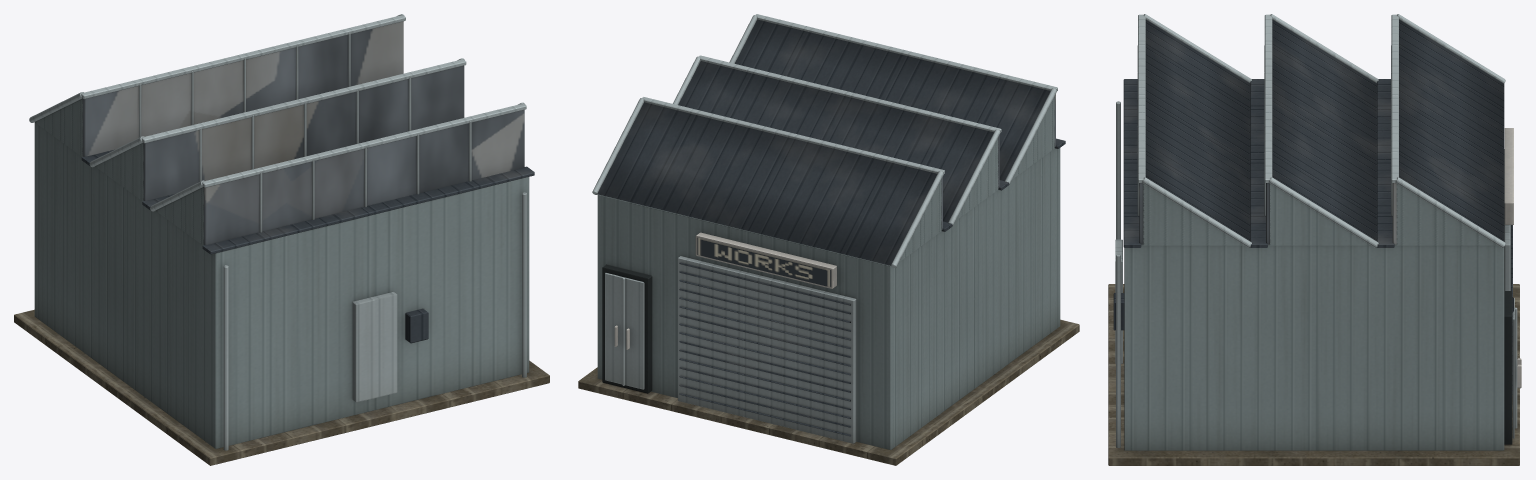
File: factory_003.obj
3 views of the same model, side by side, from view 1: azimuth 30°, elevation 25°; view 2: azimuth 150°, elevation 25°; view 3: azimuth 270°, elevation 25° (orthographic). The views are drawn at different scales.
Parts seen in each view (by area): view 1: factory_003; view 2: factory_003; view 3: factory_003.
Part boxes in pixels (<box>): factory_003: <box>14,14,549,465</box>; factory_003: <box>578,14,1079,465</box>; factory_003: <box>1108,14,1521,465</box>.
Size of the model in its own units: 6.5 by 4.94 by 6.53.
Materials: 1 (1 with a texture image).
